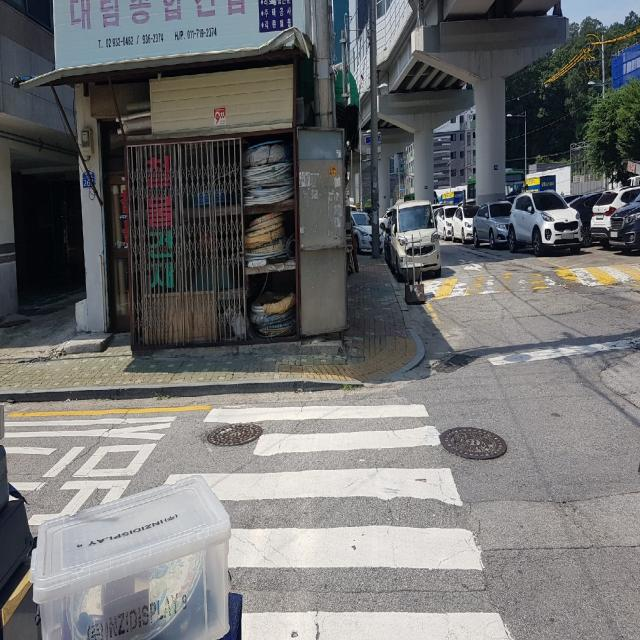횡단보도: (0, 398, 519, 640)
